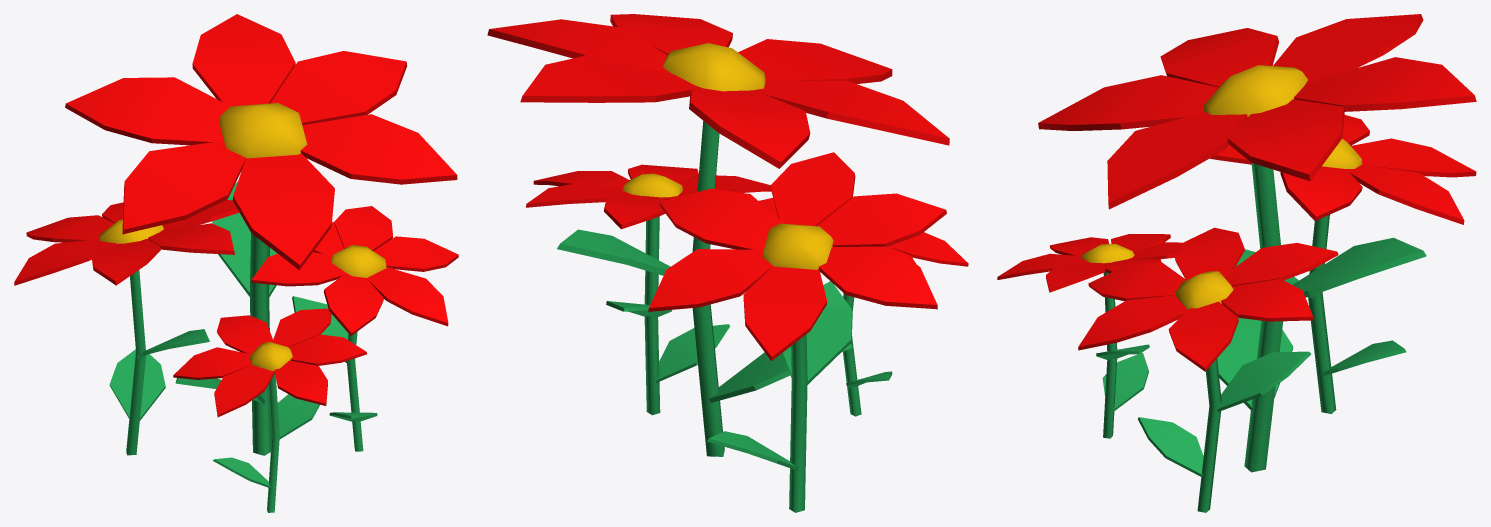
The model's file is SM_Flowers_03.fbx.
The picture shows the model from 3 angles, left to right: view 1: azimuth 30°, elevation 25°; view 2: azimuth 150°, elevation 25°; view 3: azimuth 270°, elevation 25°; orthographic projection. The views are drawn at different scales.
Parts seen in each view (by area): view 1: SM_Flowers_03; view 2: SM_Flowers_03; view 3: SM_Flowers_03.
Part boxes in pixels (x1,y1,x2,y2): SM_Flowers_03: (14,14,458,512); SM_Flowers_03: (487,14,968,512); SM_Flowers_03: (997,14,1476,512).
Size of the model in its own units: 46.8 by 40.39 by 42.45.
1 material, 1 textured.
